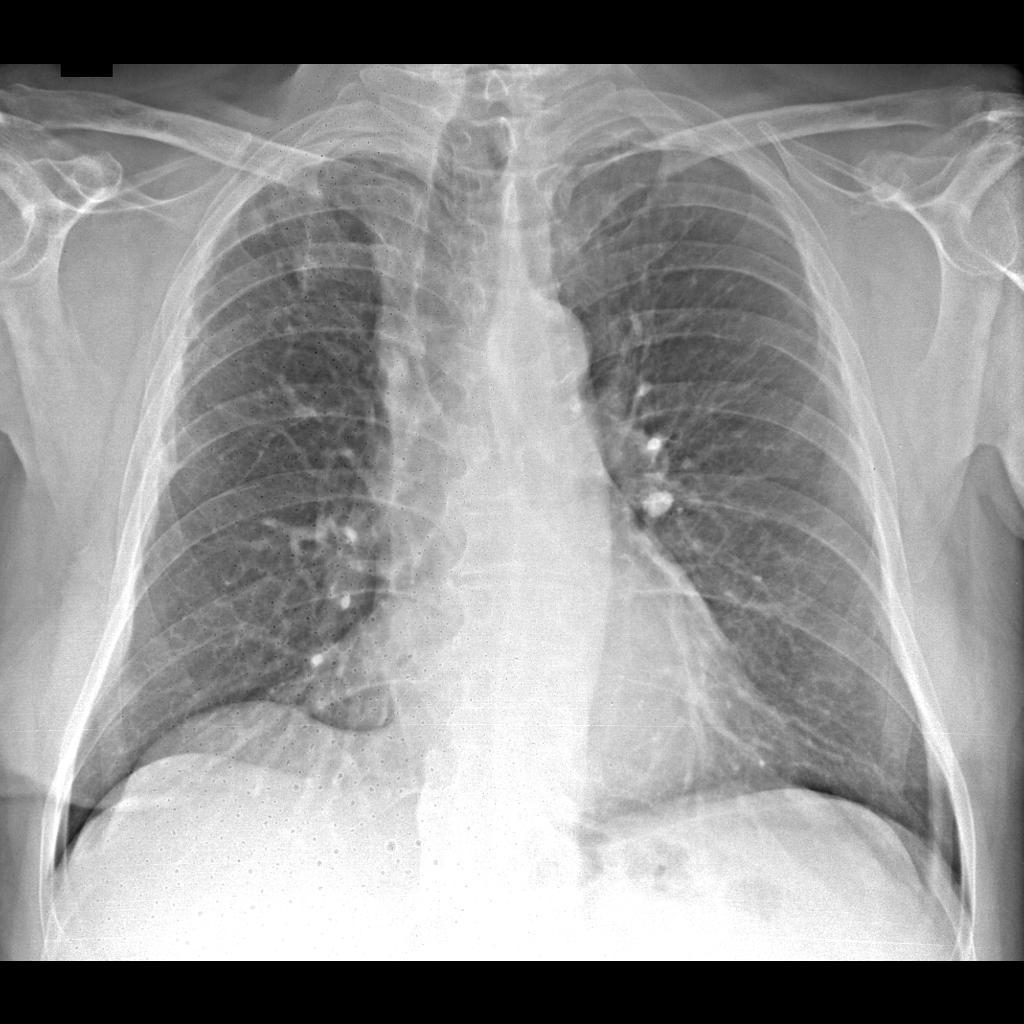Nodule: (240, 204, 271, 238)
